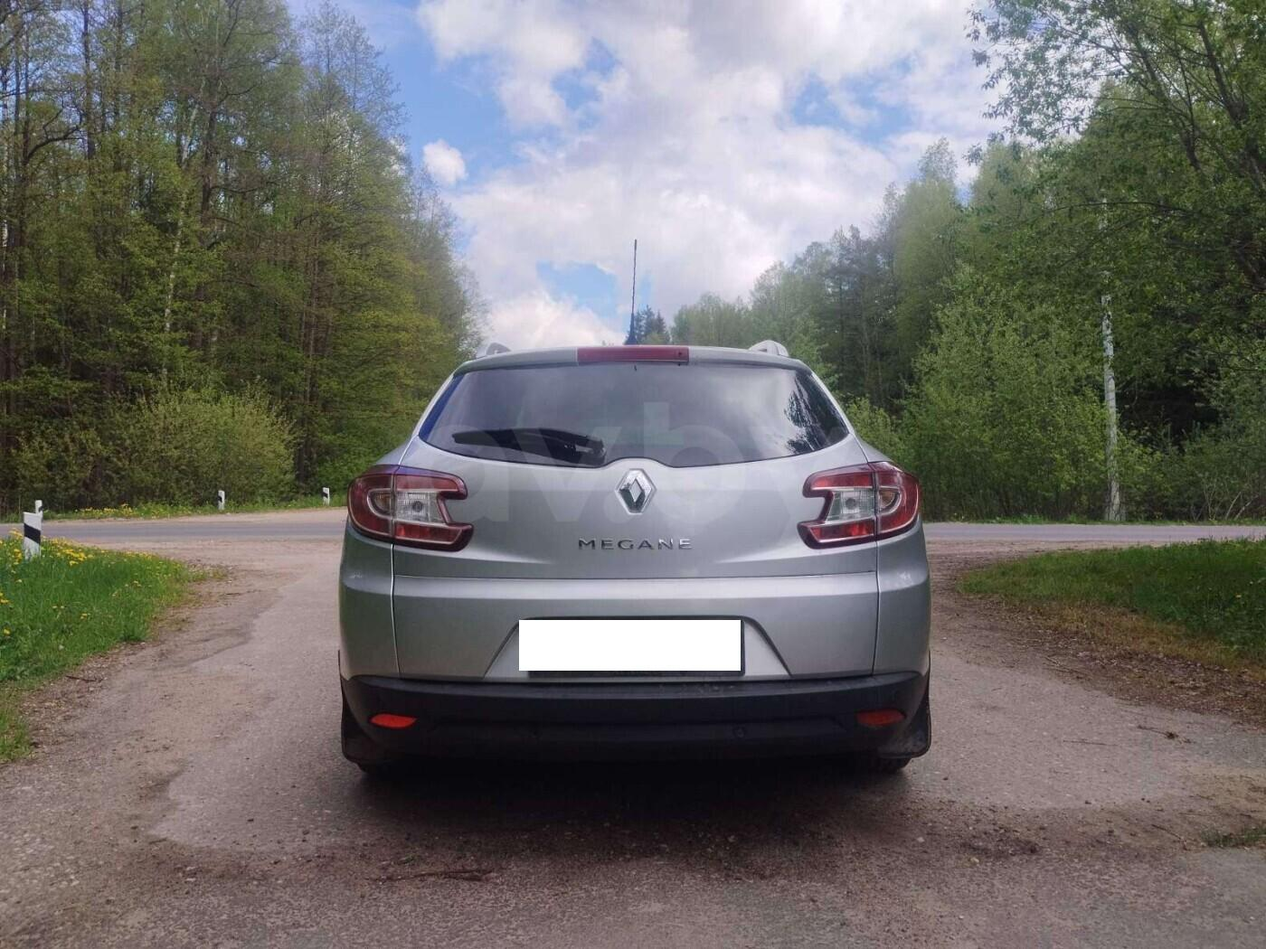Megane_2014-2016: (340, 342, 944, 789)
